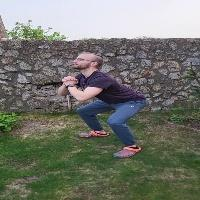squats: (44, 41, 152, 165)
